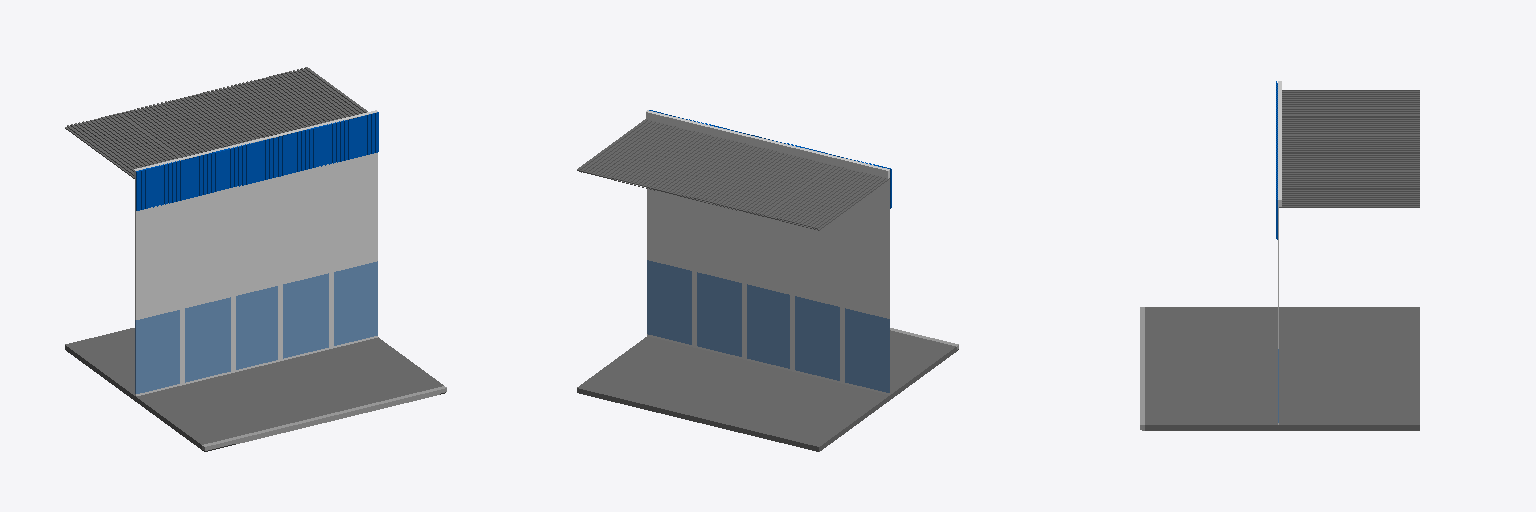
3 renders of one model, left to right at view 1: azimuth 30°, elevation 25°; view 2: azimuth 150°, elevation 25°; view 3: azimuth 270°, elevation 25°, orthographic.
Visible parts, largest first — view 1: object 1; view 2: object 1; view 3: object 1.
Part boxes in pixels (bbox=[...]): object 1: bbox=[65, 67, 446, 451]; object 1: bbox=[577, 110, 958, 451]; object 1: bbox=[1140, 81, 1419, 430].
Size of the model in its own units: 25 by 22.7 by 25.
1 materials, 1 textured.